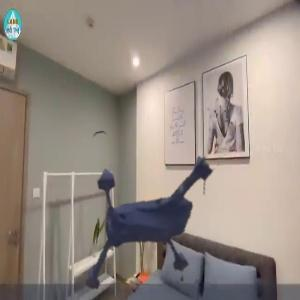drone: (63, 104, 253, 294)
